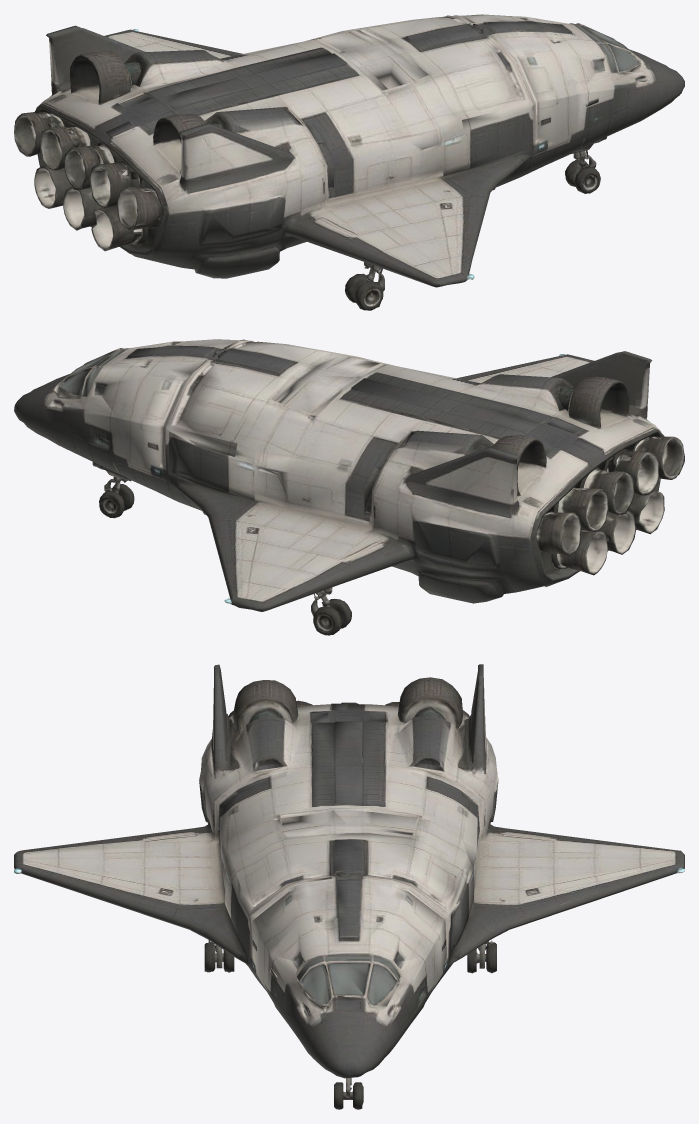
The model's file is shuttle.glb.
3 renders of one model, top to bottom at view 1: azimuth 30°, elevation 25°; view 2: azimuth 150°, elevation 25°; view 3: azimuth 270°, elevation 25°, orthographic.
Parts seen in each view (by area): view 1: tripo_node_48f96d81-095a-4e0e-8f1d-68c1a0c48f81; view 2: tripo_node_48f96d81-095a-4e0e-8f1d-68c1a0c48f81; view 3: tripo_node_48f96d81-095a-4e0e-8f1d-68c1a0c48f81.
Boxes of the visible parts, x1=… form: tripo_node_48f96d81-095a-4e0e-8f1d-68c1a0c48f81: x1=14, y1=14, x2=684, y2=310; tripo_node_48f96d81-095a-4e0e-8f1d-68c1a0c48f81: x1=14, y1=339, x2=684, y2=635; tripo_node_48f96d81-095a-4e0e-8f1d-68c1a0c48f81: x1=14, y1=664, x2=684, y2=1109.
Size of the model in its own units: 0.998 by 0.3457 by 0.9628.
Materials: 1 (1 with a texture image).
